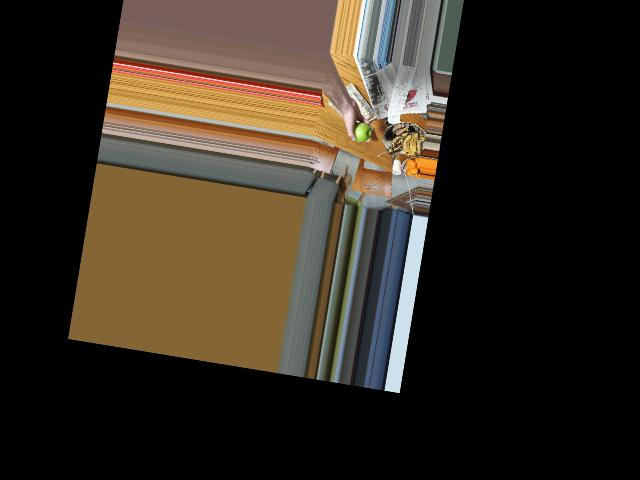apple: (346, 117, 373, 146)
